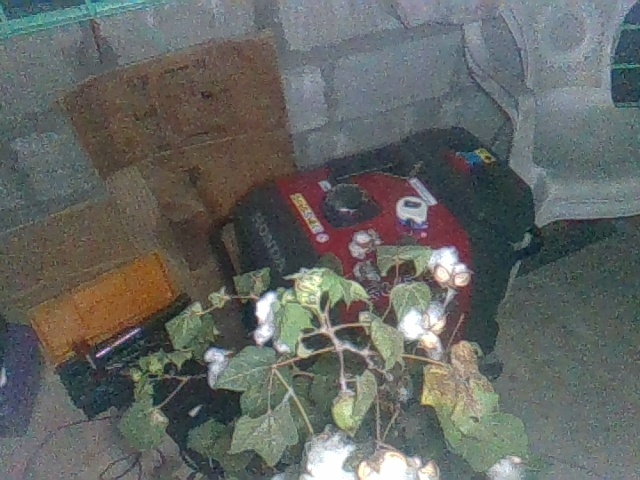cotton: (252, 280, 302, 358), (297, 423, 360, 480), (394, 301, 450, 364), (420, 243, 476, 291), (362, 448, 442, 480), (198, 346, 235, 392), (347, 226, 385, 261), (479, 455, 527, 480)
